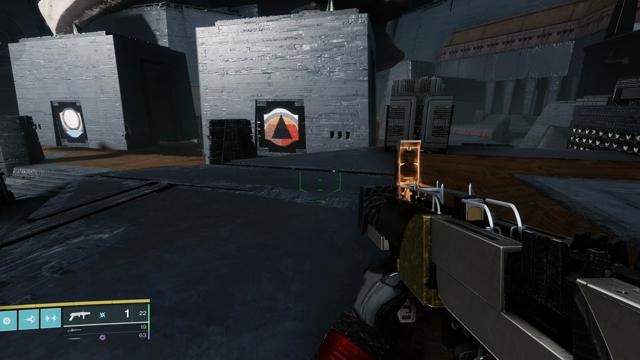pyramid: (263, 108, 299, 146)
traveler: (59, 107, 85, 138)
